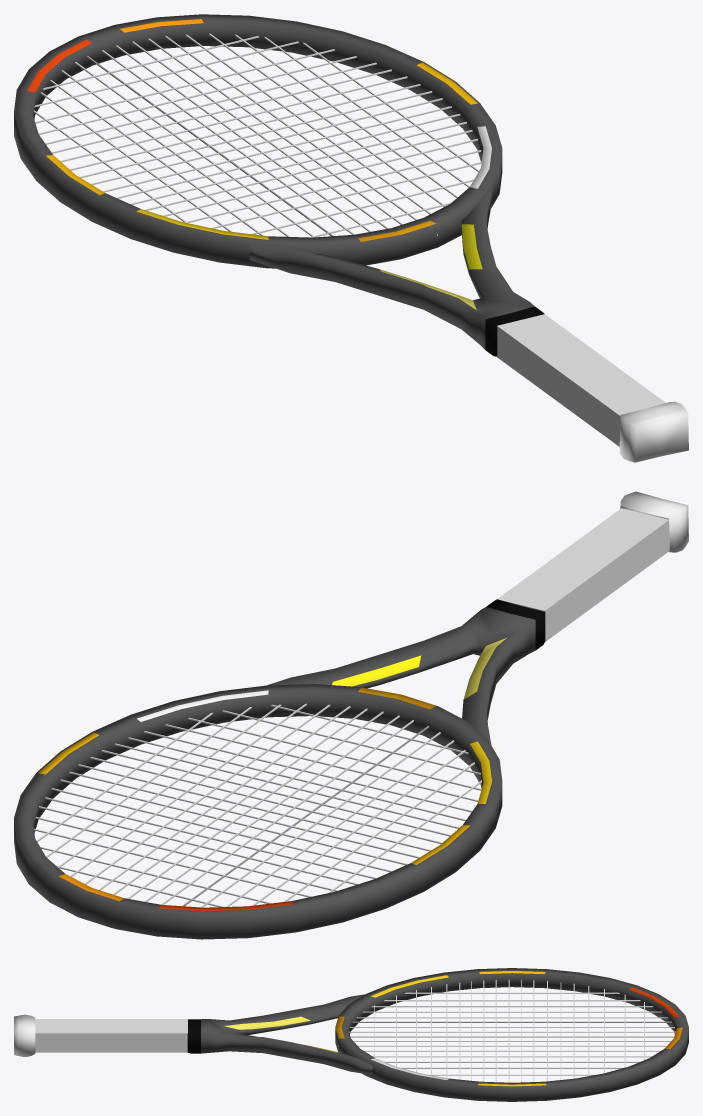
Rendered from raquetabien (1).fbx.
3 views of the same model, one above another, from view 1: azimuth 30°, elevation 25°; view 2: azimuth 150°, elevation 25°; view 3: azimuth 270°, elevation 25° (orthographic). The views are drawn at different scales.
Visible parts, largest first — view 1: raqueta, Cube, Cube.009, Cube.010, Cube.008, Cube.011, Cube.012, Cube.007, Cube.013, Cube.006, Cube.014, Cube.005 (+16 smaller); view 2: raqueta, Cube, Cube.009, Cube.008, Cube.010, Cube.007, Cube.011, Cube.006, Cube.012, Cube.005, Cube.013, Cube.004 (+15 smaller); view 3: raqueta, Cube, Cube.027, Cube.019, Cube.029, Cube.021, Cube.030, Cube.031, Cube.022, Cube.032, Cube.023, Cube.033 (+6 smaller).
Part boxes in pixels (bbox=[...]): raqueta: bbox=[14, 14, 688, 462]; Cube: bbox=[497, 314, 665, 446]; Cube.009: bbox=[91, 98, 442, 184]; Cube.010: bbox=[80, 91, 432, 178]; Cube.008: bbox=[102, 106, 451, 192]; Cube.011: bbox=[70, 84, 420, 170]; Cube.012: bbox=[60, 76, 407, 162]; Cube.007: bbox=[116, 113, 460, 198]; Cube.013: bbox=[51, 69, 391, 153]; Cube.006: bbox=[130, 121, 466, 204]; Cube.014: bbox=[45, 62, 376, 144]; Cube.005: bbox=[144, 130, 472, 210]; raqueta: bbox=[14, 491, 688, 939]; Cube: bbox=[497, 508, 669, 641]; Cube.009: bbox=[78, 764, 431, 851]; Cube.008: bbox=[90, 757, 442, 843]; Cube.010: bbox=[69, 771, 419, 858]; Cube.007: bbox=[101, 750, 450, 836]; Cube.011: bbox=[60, 779, 407, 865]; Cube.006: bbox=[114, 743, 459, 828]; Cube.012: bbox=[51, 788, 392, 872]; Cube.005: bbox=[128, 737, 465, 820]; Cube.013: bbox=[45, 797, 376, 879]; Cube.004: bbox=[144, 731, 472, 812]; raqueta: bbox=[14, 968, 688, 1101]; Cube: bbox=[35, 1019, 187, 1052]; Cube.027: bbox=[349, 1031, 675, 1032]; Cube.019: bbox=[350, 1036, 674, 1037]; Cube.029: bbox=[352, 1021, 672, 1022]; Cube.021: bbox=[338, 1045, 666, 1046]; Cube.030: bbox=[356, 1017, 667, 1018]; Cube.031: bbox=[362, 1011, 661, 1012]; Cube.022: bbox=[364, 1050, 660, 1051]; Cube.032: bbox=[371, 1006, 653, 1007]; Cube.023: bbox=[373, 1056, 651, 1057]; Cube.033: bbox=[384, 1000, 640, 1001].
Bounding box in the file's own units: 97.55 × 9.89 × 234.
Materials: 5 (2 with a texture image).
